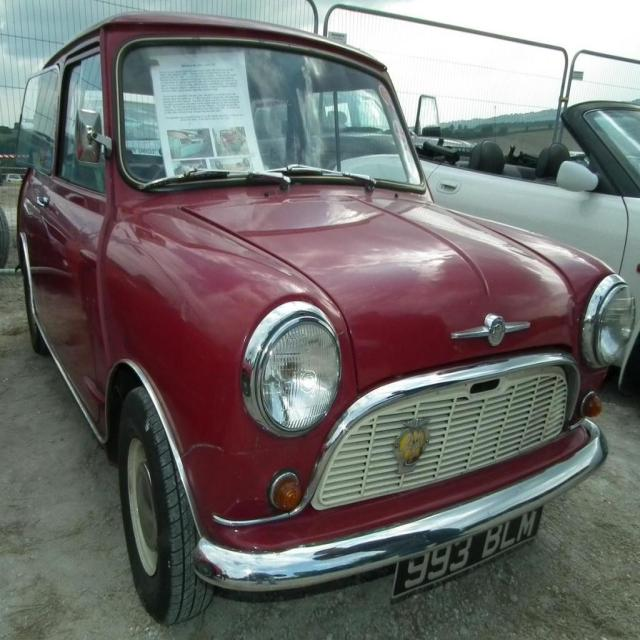car: (12, 16, 599, 622)
